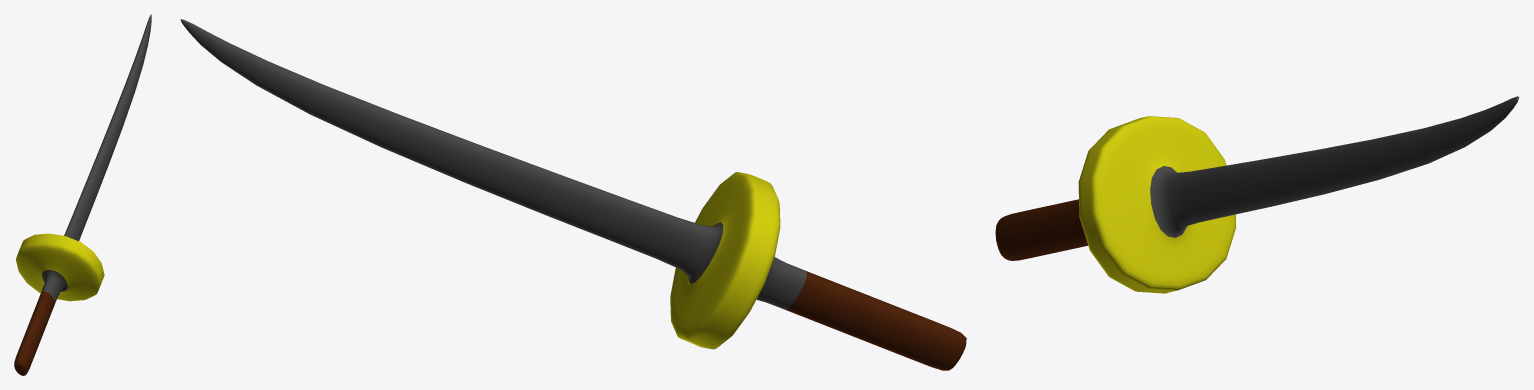
The model's file is epé.obj.
3 renders of one model, left to right at view 1: azimuth 30°, elevation 25°; view 2: azimuth 150°, elevation 25°; view 3: azimuth 270°, elevation 25°, orthographic. The views are drawn at different scales.
Parts seen in each view (by area): view 1: Cube; view 2: Cube; view 3: Cube.
Boxes of the visible parts, x1,y1,x2,y2 form: Cube: (14,14,151,375); Cube: (180,19,966,370); Cube: (995,96,1519,293).
Size of the model in its own units: 6.34 by 4.71 by 5.43.
